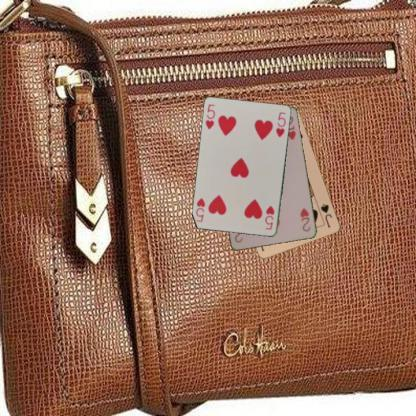2h: (298, 205, 312, 233)
5h: (262, 203, 276, 231), (203, 102, 217, 130)
Js: (318, 201, 334, 229)
